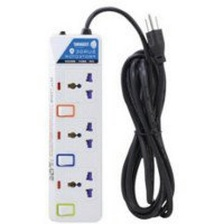three_eye_plug: (44, 32, 106, 224)
